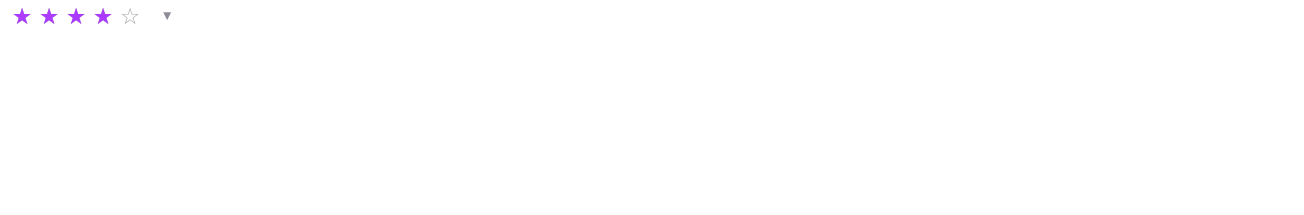
it: ReviewEditor › collapses existing episode reviews until the expand control is used
The width and height of the screenshot is (1304, 215).
Expected: the slider is shown, [12,4,142,27]
Click the button named "Show review details" at x=167, y=16, box [152,4,183,27]
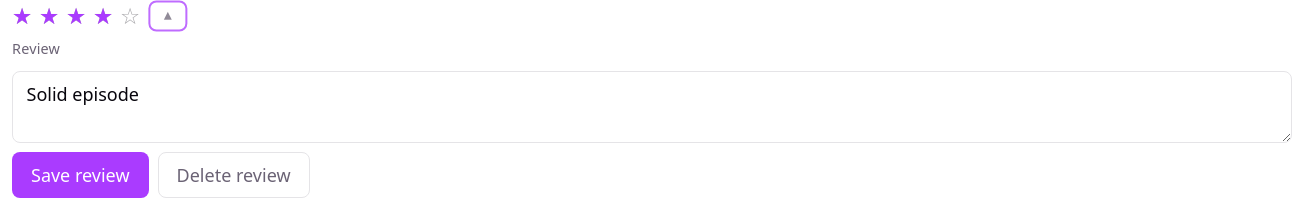
Now the text box showing "Solid episode" is shown, box [12,71,1292,143]
Now the button "Save review" is shown, box [12,152,149,198]
